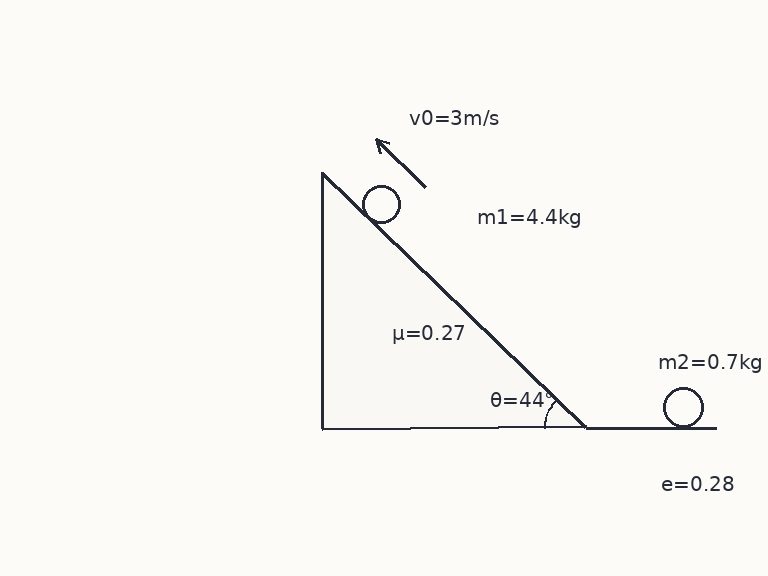ball: (661, 385, 705, 429), (360, 183, 402, 225)
ramp: (320, 171, 587, 429)
